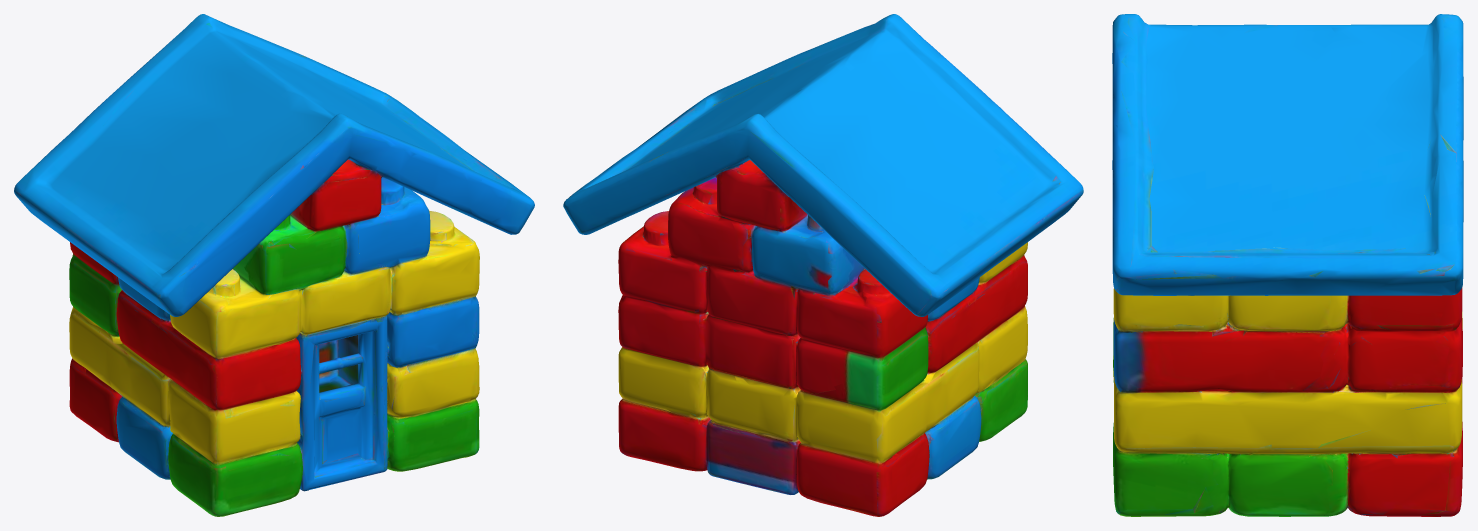
The model's file is house.glb.
3 renders of one model, left to right at view 1: azimuth 30°, elevation 25°; view 2: azimuth 150°, elevation 25°; view 3: azimuth 270°, elevation 25°, orthographic. The views are drawn at different scales.
Parts seen in each view (by area): view 1: Mesh_0; view 2: Mesh_0; view 3: Mesh_0.
Part boxes in pixels (box(x1,y1,x2,y2)): Mesh_0: box(14, 14, 534, 516); Mesh_0: box(563, 14, 1083, 516); Mesh_0: box(1112, 14, 1463, 516).
Bounding box in the file's own units: 1.91 × 1.78 × 1.32.
1 material, 1 textured.
